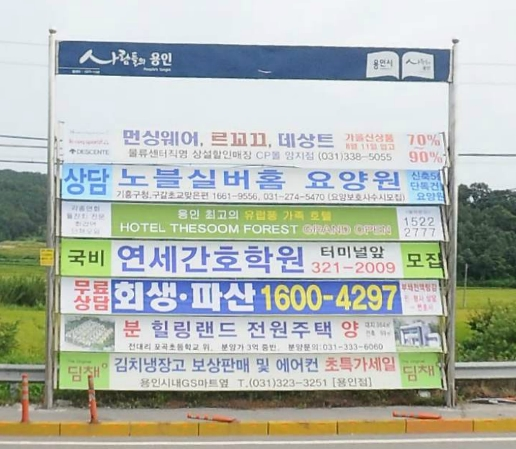banner: (33, 334, 459, 396), (26, 151, 473, 208), (43, 224, 462, 284), (36, 112, 459, 171), (34, 305, 462, 361), (34, 194, 474, 247), (40, 272, 474, 319)
